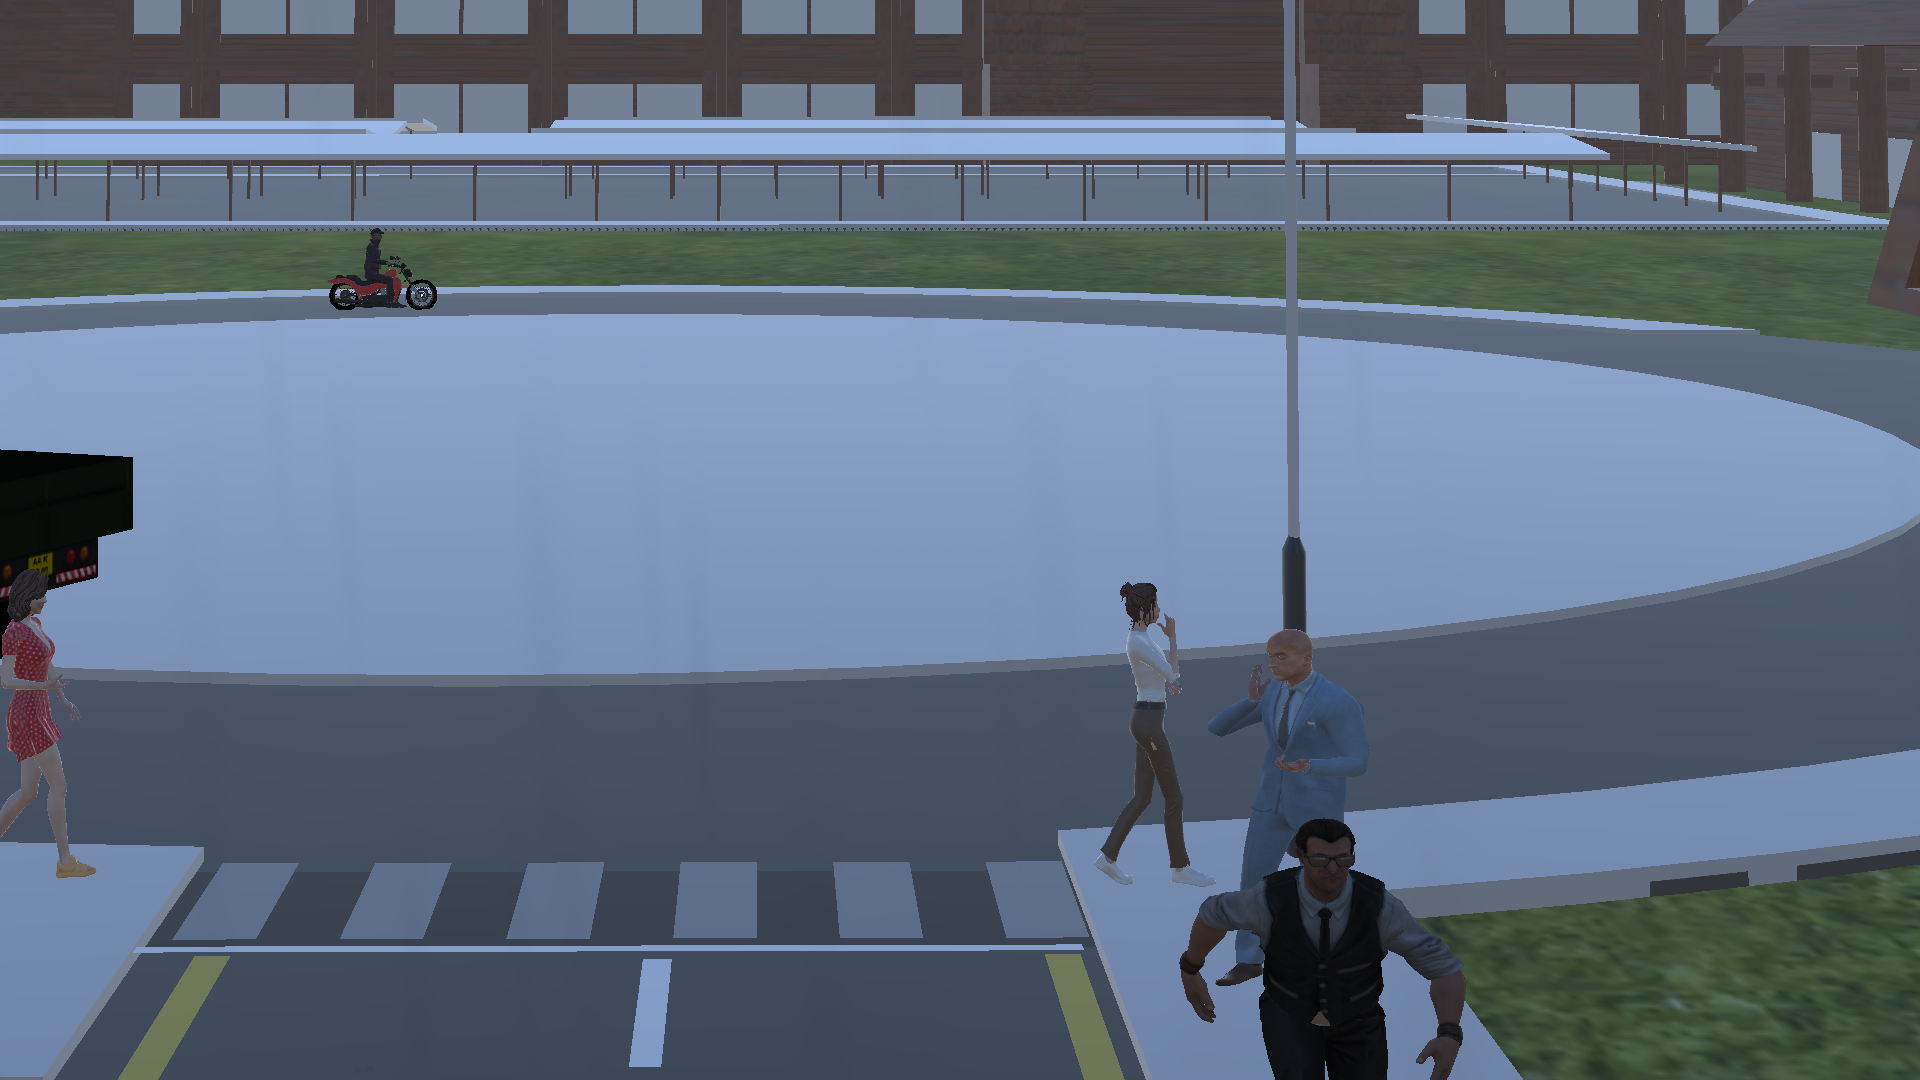pedestrian: (1178, 817, 1479, 1080), (1092, 574, 1226, 893), (1211, 622, 1381, 830), (3, 564, 114, 878)
